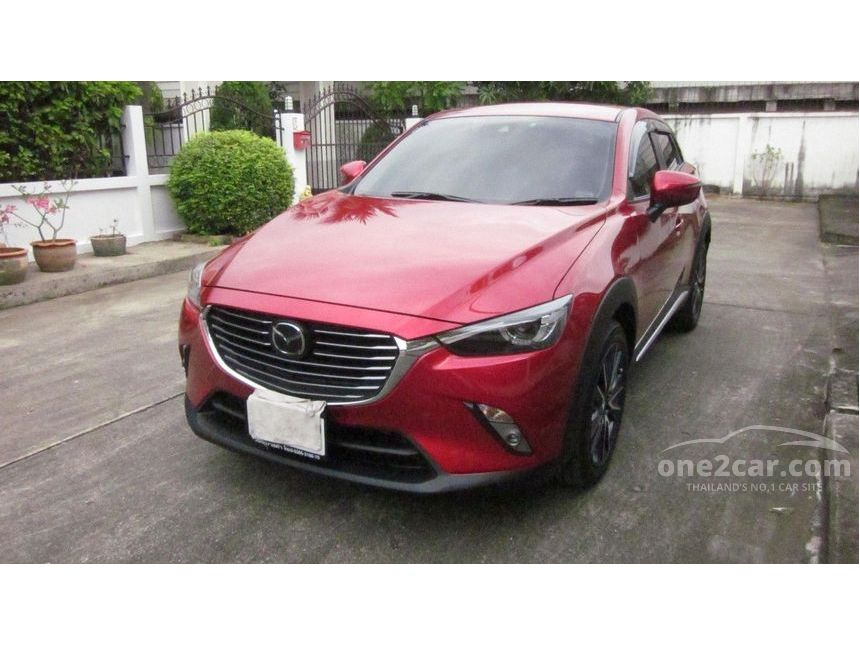pickup: (179, 100, 715, 502)
